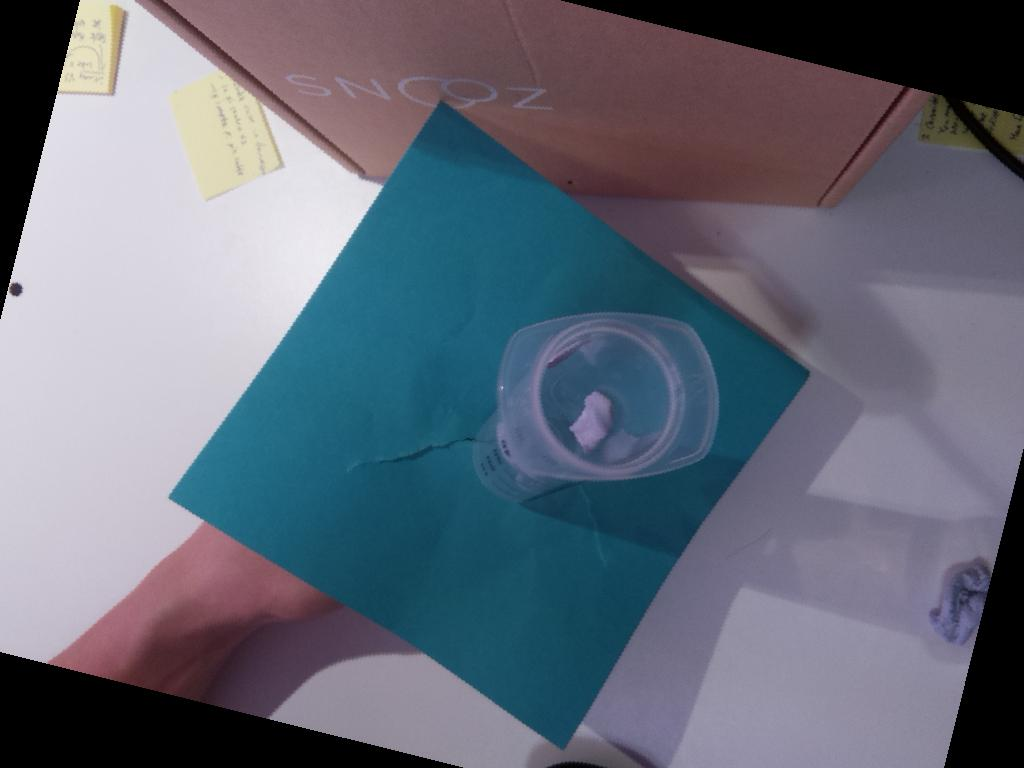dirty: (497, 313, 720, 481)
